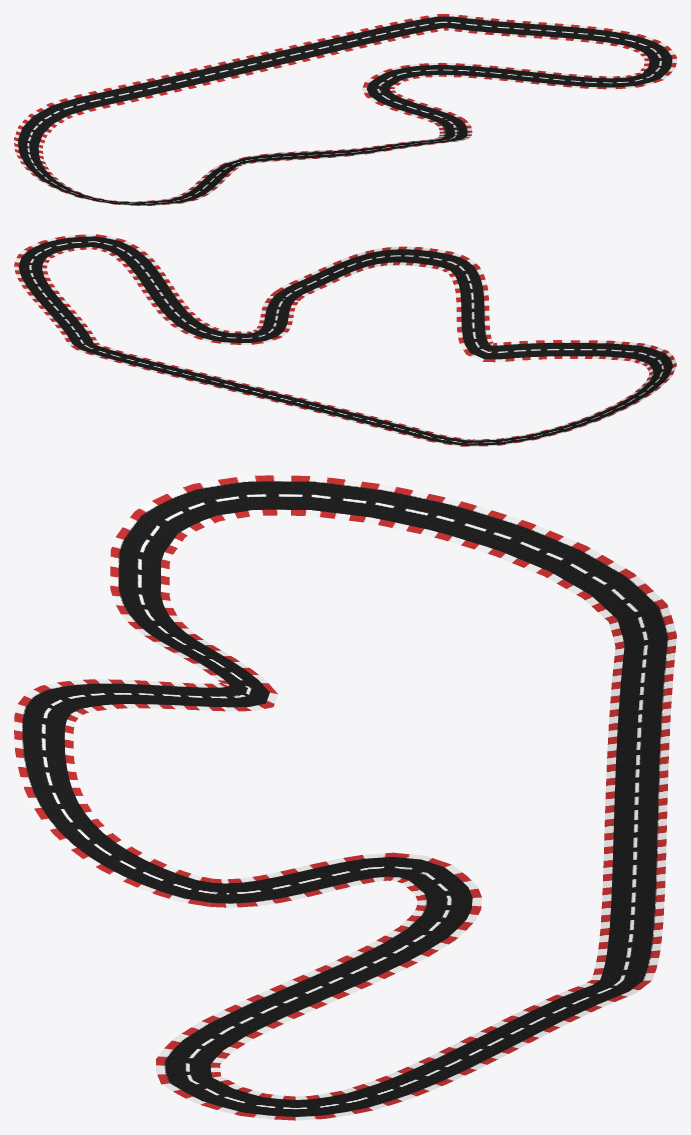
Rendered from CircuitosDificilBien.fbx.
3 renders of one model, top to bottom at view 1: azimuth 30°, elevation 25°; view 2: azimuth 150°, elevation 25°; view 3: azimuth 270°, elevation 25°, orthographic. The views are drawn at different scales.
Visible parts, largest first — view 1: Suelo.003, Extremos.002; view 2: Suelo.003, Extremos.002; view 3: Suelo.003, Extremos.002.
Boxes of the visible parts, x1,y1,x2,y2 form: Suelo.003: [18, 16, 671, 205]; Extremos.002: [14, 14, 676, 205]; Suelo.003: [19, 236, 672, 445]; Extremos.002: [14, 234, 676, 446]; Suelo.003: [23, 481, 667, 1116]; Extremos.002: [14, 475, 676, 1120].
Bounding box in the file's own units: 29406 × 1645 × 13498.
